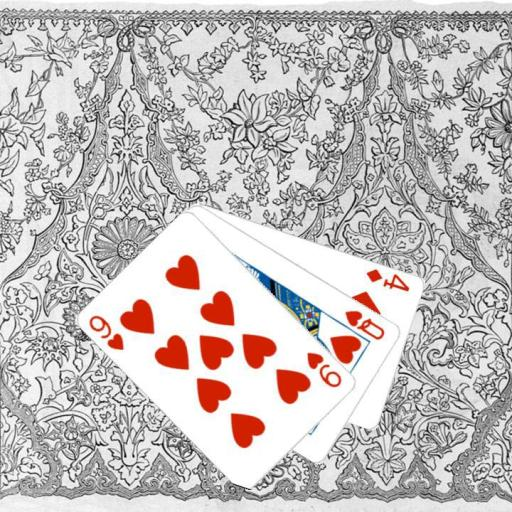4D: (363, 265, 412, 293)
9H: (304, 348, 344, 389), (86, 312, 126, 352)
QH: (342, 307, 387, 342)
